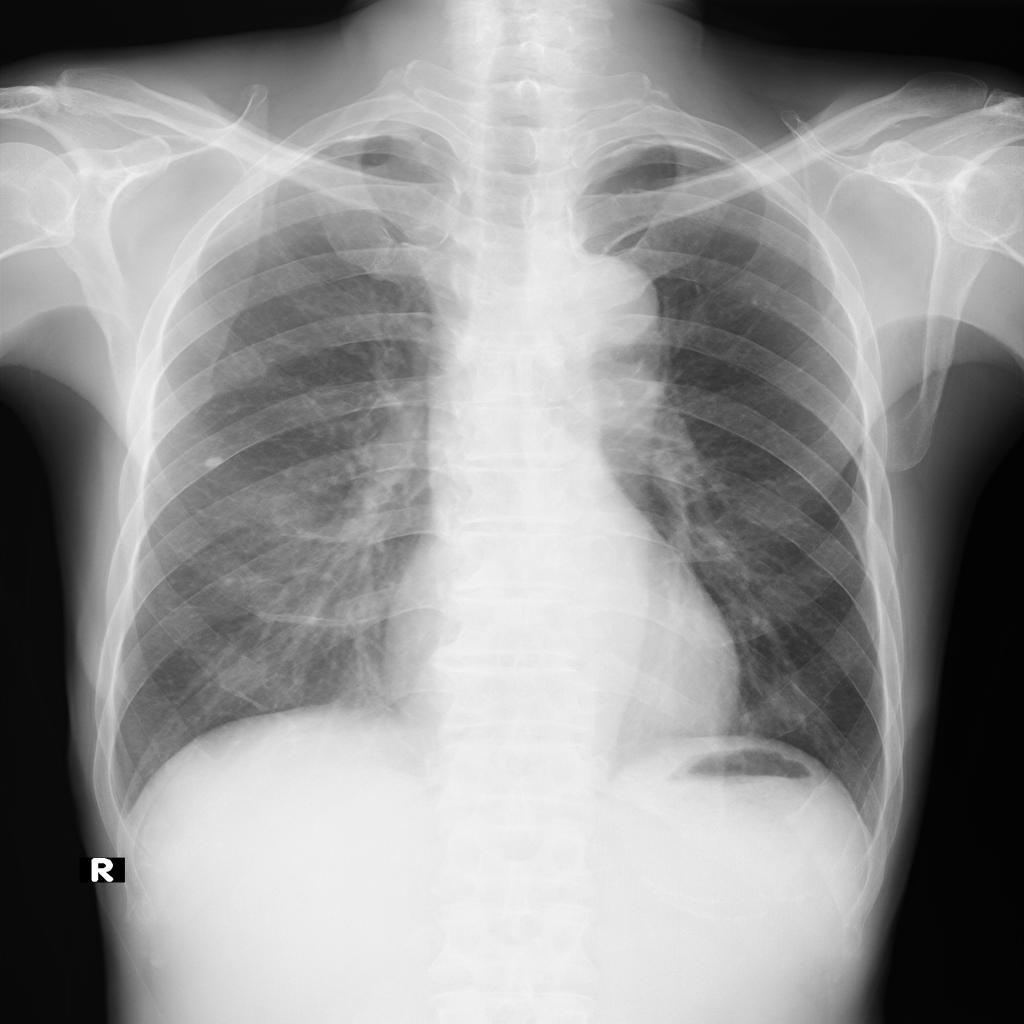Nodule: (202, 454, 228, 471)
